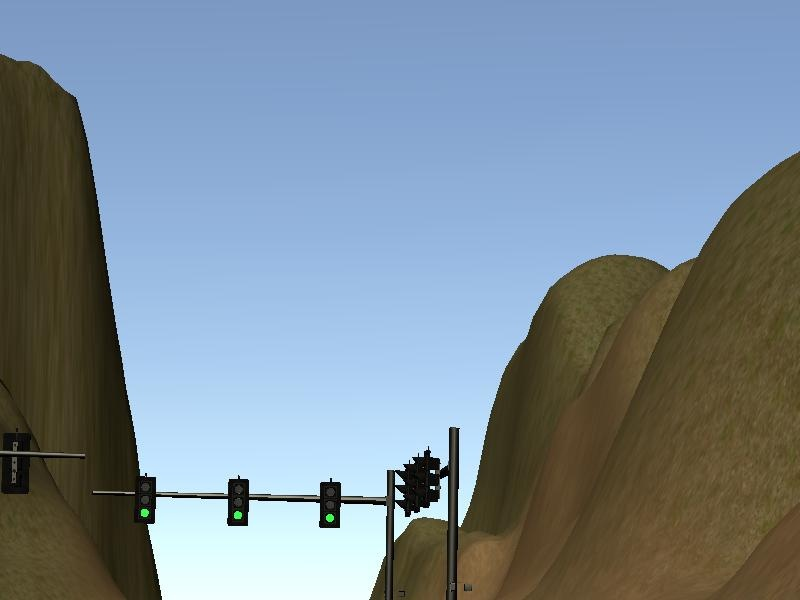green: (318, 482, 339, 530), (136, 474, 155, 523), (229, 478, 248, 526)
